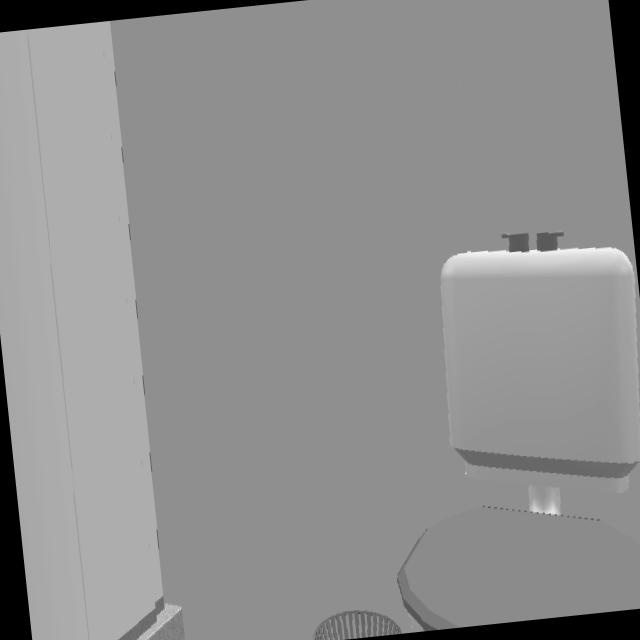shower: (0, 20, 185, 640)
toilet: (396, 233, 640, 631)
